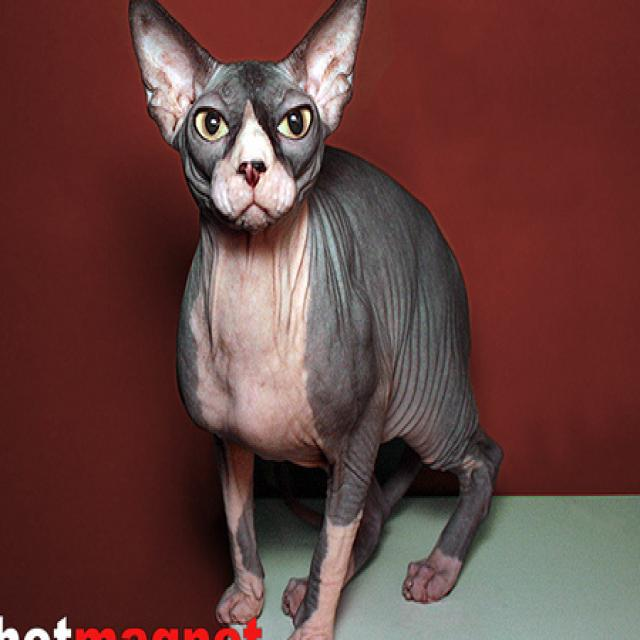Sphynx: (125, 0, 506, 640)
